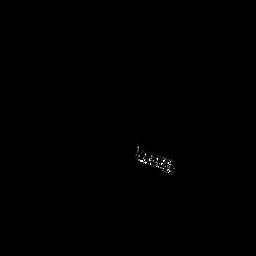ship: (134, 145, 176, 174)
